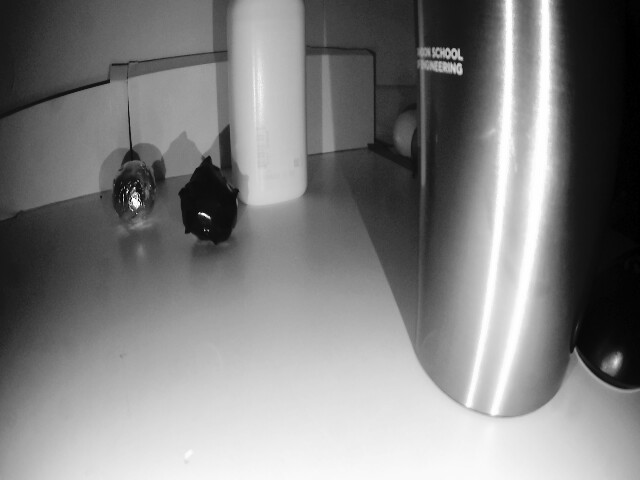black: (112, 160, 162, 224)
silver: (181, 159, 242, 245)
